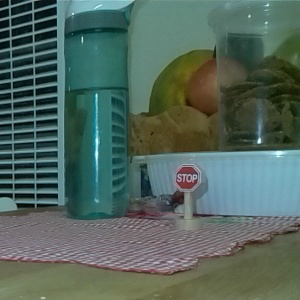stop sign: (171, 162, 205, 232)
